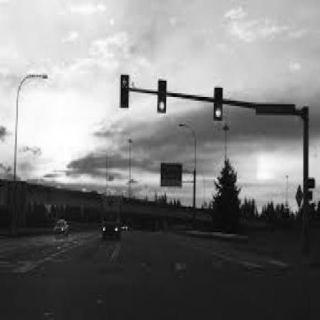other: (248, 143, 282, 183)
